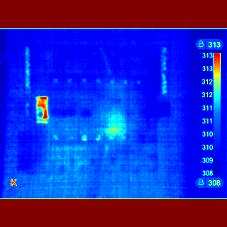Medium: (34, 94, 55, 125)
